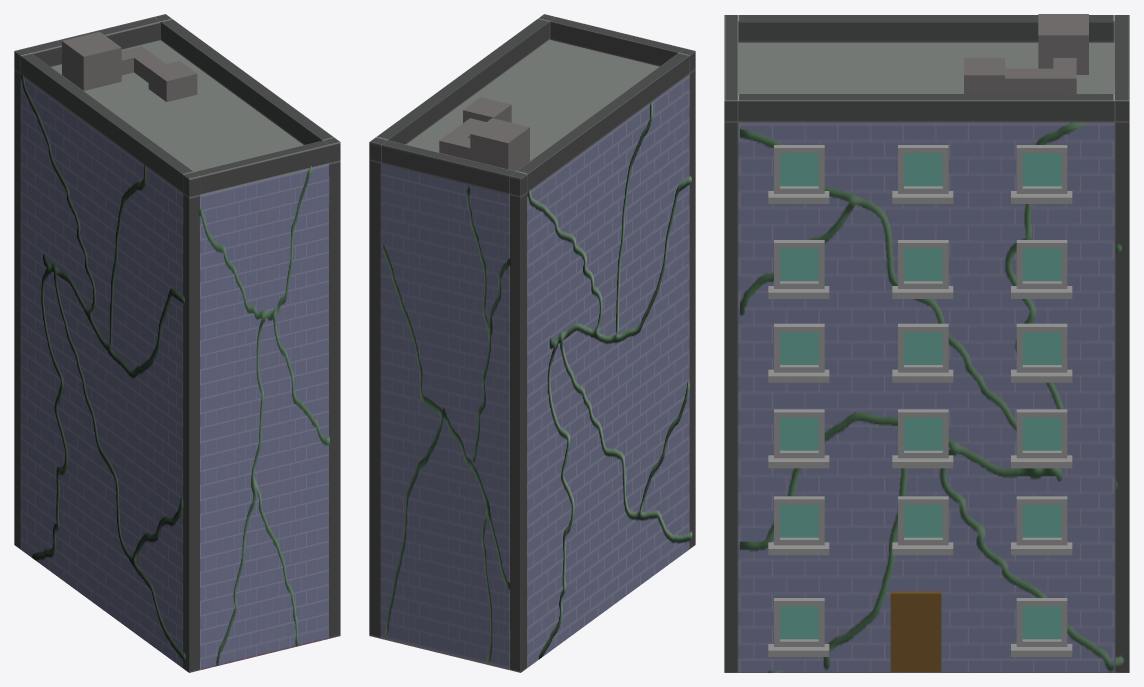
Rendered from tallapartmentblue.fbx.
3 views of the same model, side by side, from view 1: azimuth 30°, elevation 25°; view 2: azimuth 150°, elevation 25°; view 3: azimuth 270°, elevation 25° (orthographic). The views are drawn at different scales.
Parts seen in each view (by area): view 1: polySurface371; view 2: polySurface371; view 3: polySurface371.
Part boxes in pixels (box(x1,y1,x2,y2)): polySurface371: box(14, 14, 340, 672); polySurface371: box(369, 14, 695, 672); polySurface371: box(724, 14, 1129, 672).
Size of the model in its own units: 4.31 by 12.86 by 8.
